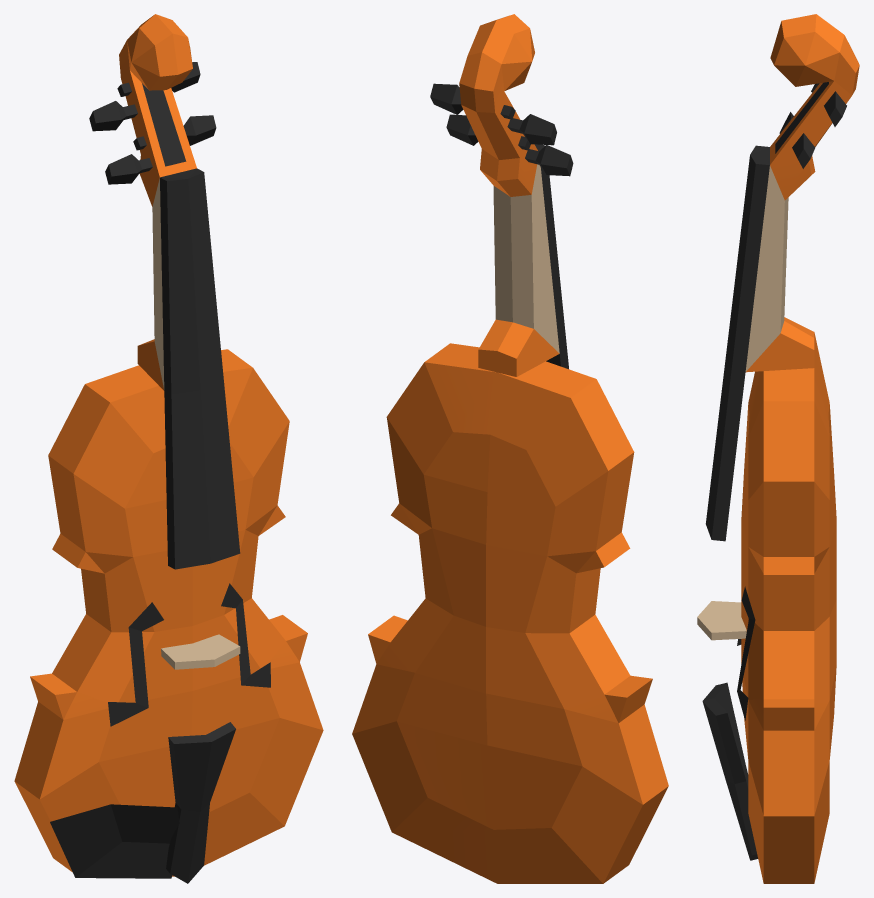
File: music_violin.fbx
3 views of the same model, side by side, from view 1: azimuth 30°, elevation 25°; view 2: azimuth 150°, elevation 25°; view 3: azimuth 270°, elevation 25° (orthographic). The views are drawn at different scales.
Visible parts, largest first — view 1: music_violin; view 2: music_violin; view 3: music_violin.
Boxes of the visible parts, bbox=[...] form: music_violin: bbox=[14, 14, 323, 883]; music_violin: bbox=[352, 14, 668, 883]; music_violin: bbox=[697, 14, 859, 883].
Size of the model in its own units: 70.25 by 200 by 34.77.
